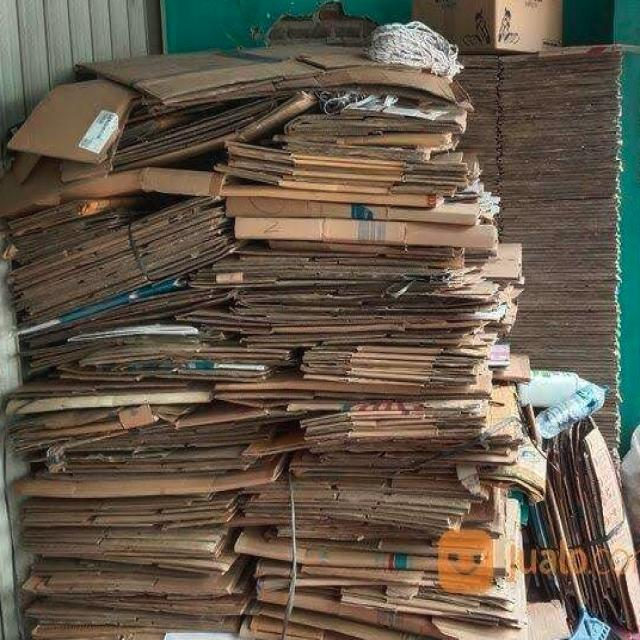Kardus: (0, 13, 549, 638)
